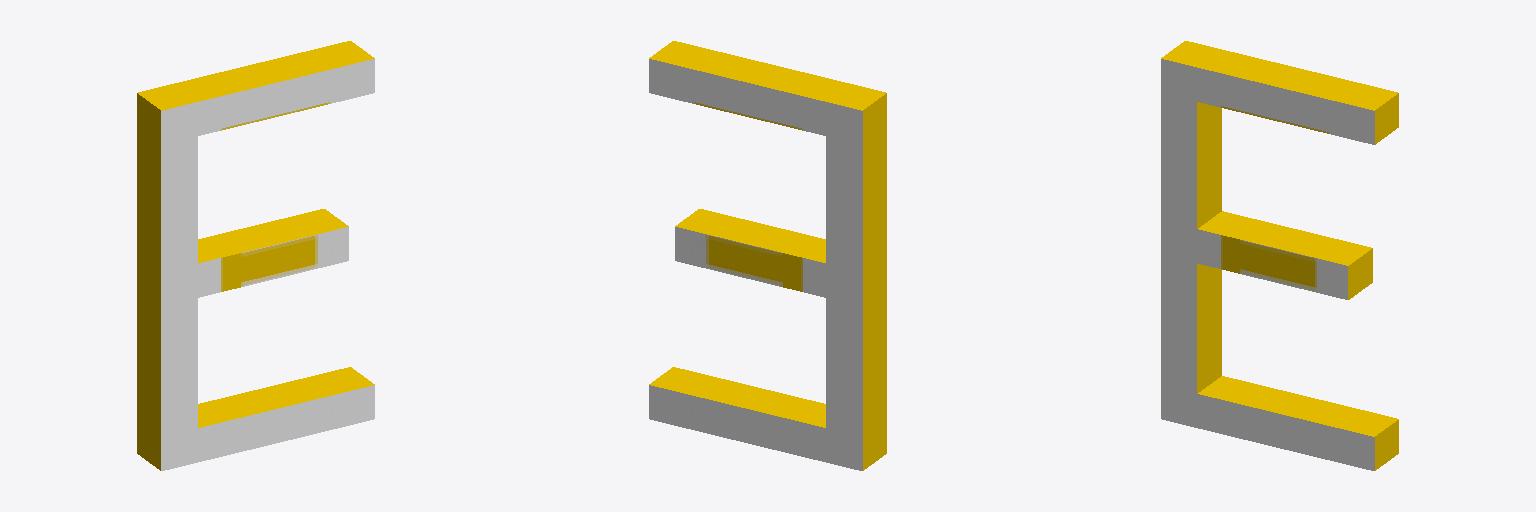
3 renders of one model, left to right at view 1: azimuth 30°, elevation 25°; view 2: azimuth 150°, elevation 25°; view 3: azimuth 330°, elevation 25°, orthographic.
Bounding box in the file's own units: 50.05 × 80.63 × 10.01.
Materials: 5 (1 with a texture image).